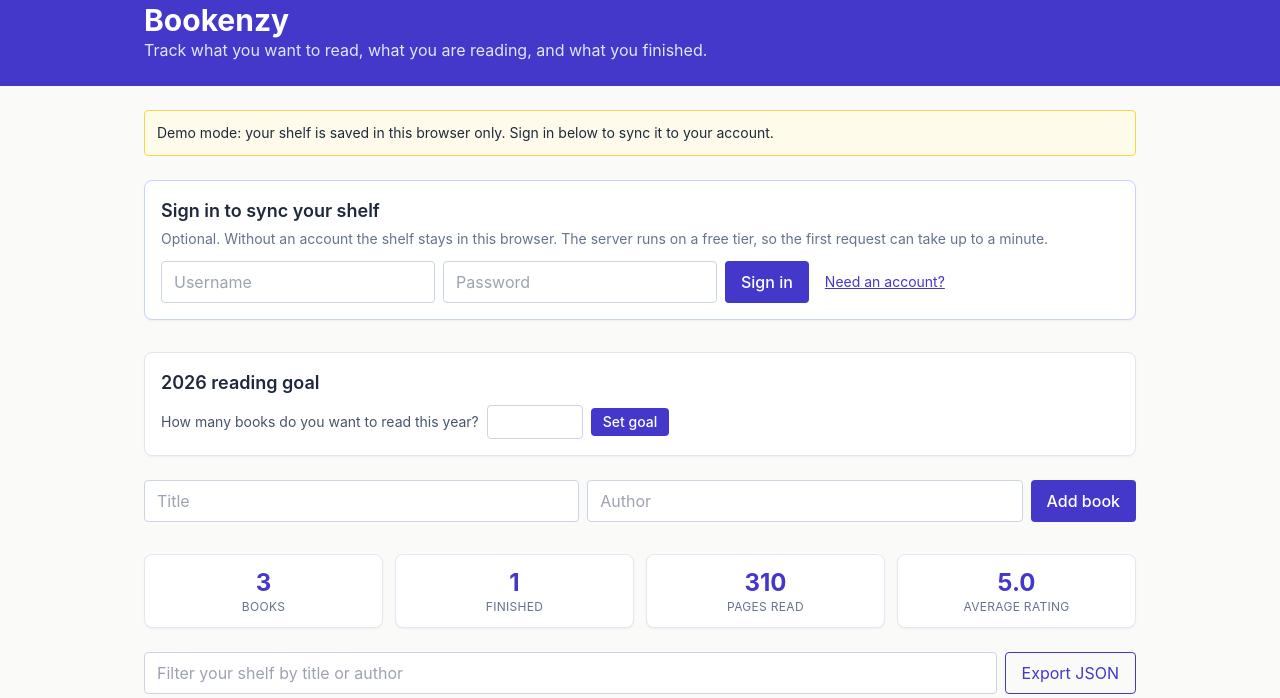
Test case: adds a book to the want-to-read shelf
Type "Dune" into the field labelled "Title".
click(362, 501); type("Dune")  # box [144, 480, 579, 522]
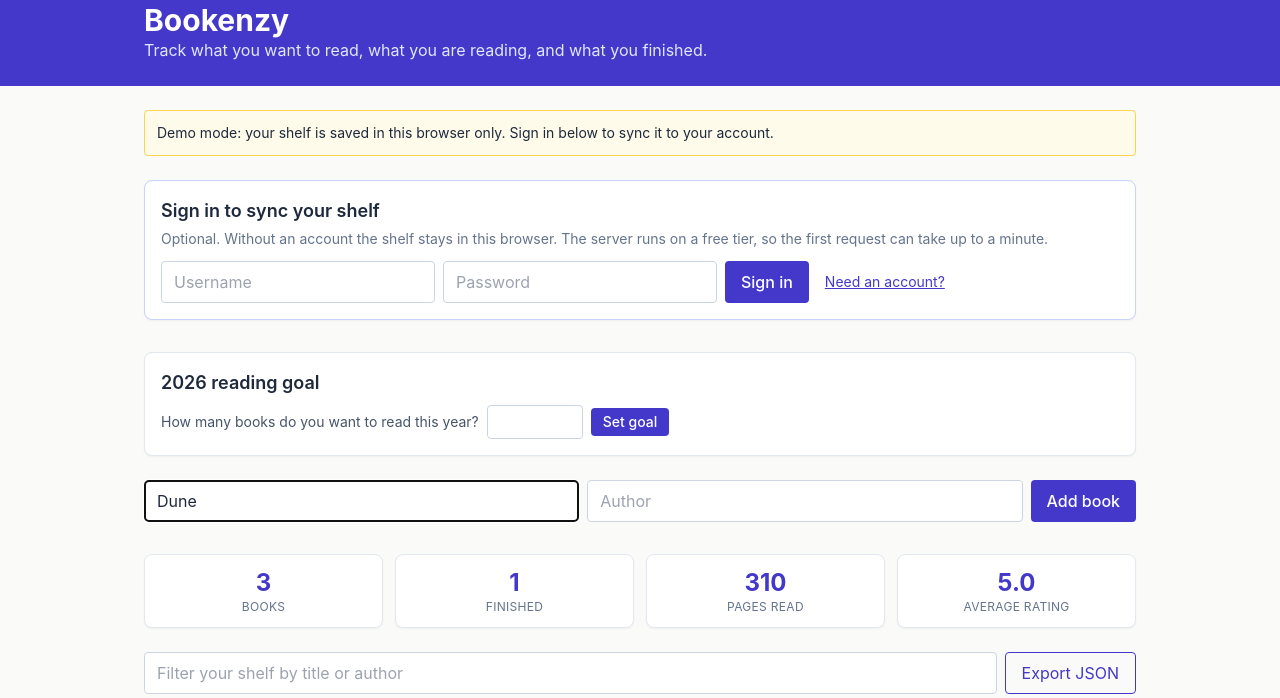
Type "Frank Herbert" into the field labelled "Author".
click(805, 501); type("Frank Herbert")  # box [587, 480, 1023, 522]
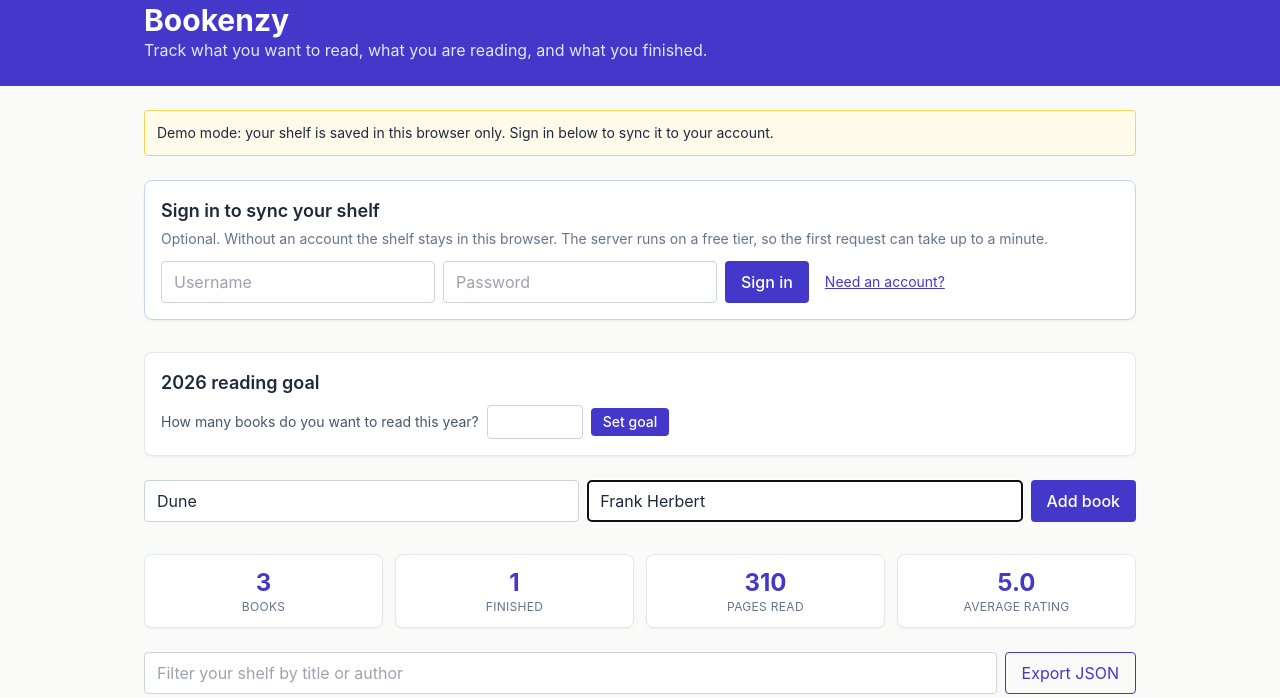
Submit the form named "add a book", box [144, 480, 1136, 522]
(page scrolled)
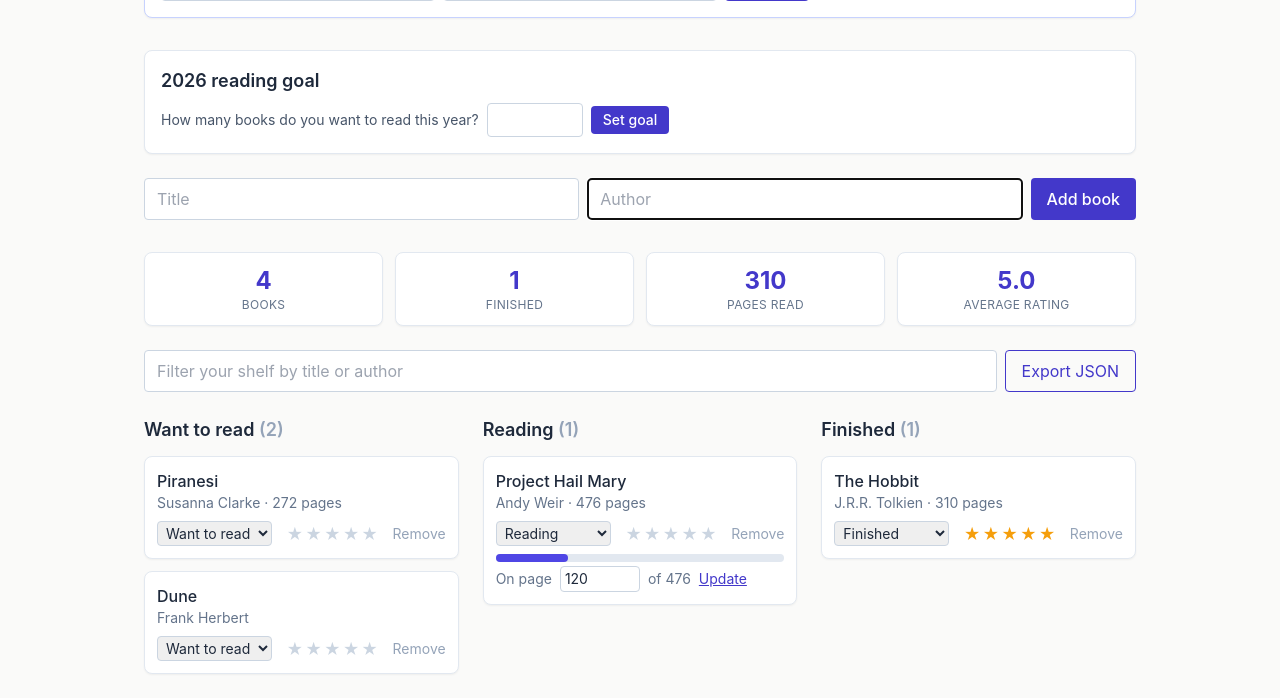
Result: the text "Dune" is shown at [157, 586, 197, 606]
